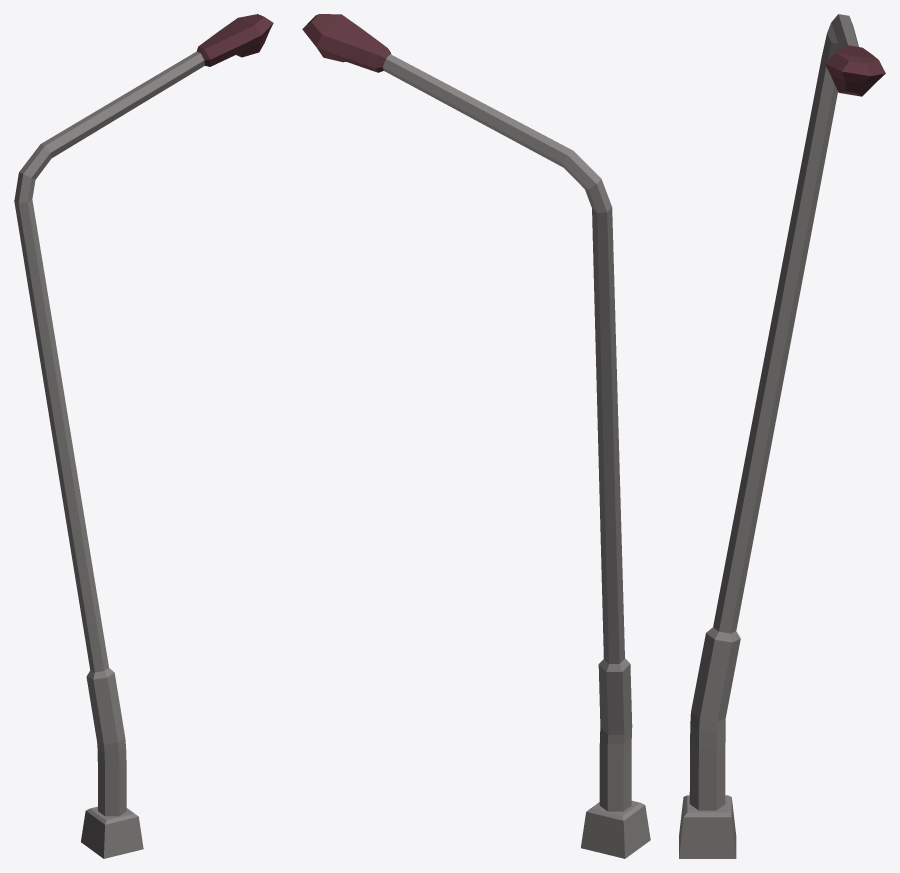
Rendered from lamp-road-apocalypse-b.fbx.
The picture shows the model from 3 angles, left to right: view 1: azimuth 30°, elevation 25°; view 2: azimuth 150°, elevation 25°; view 3: azimuth 270°, elevation 25°; orthographic projection. The views are drawn at different scales.
Visible parts, largest first — view 1: lamp-road-apocalypse-b; view 2: lamp-road-apocalypse-b; view 3: lamp-road-apocalypse-b.
Boxes of the visible parts, bbox=[...] form: lamp-road-apocalypse-b: bbox=[14, 14, 273, 858]; lamp-road-apocalypse-b: bbox=[302, 14, 650, 858]; lamp-road-apocalypse-b: bbox=[679, 14, 885, 858].
Size of the model in its own units: 3.6 by 9.7 by 1.99.
